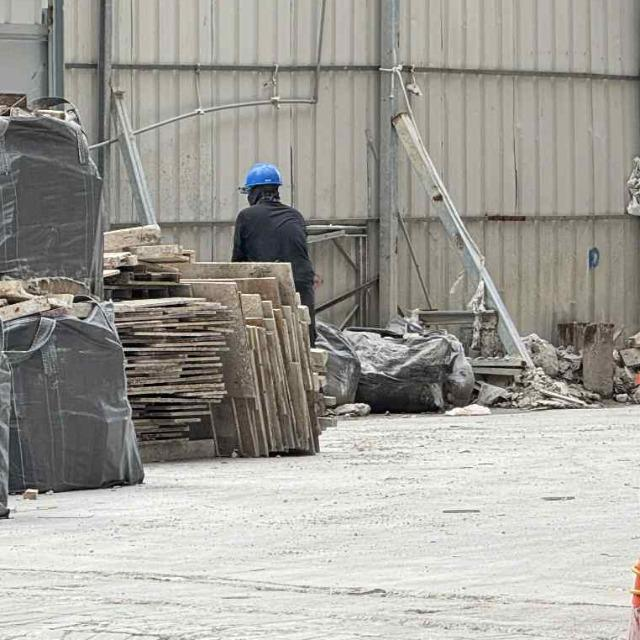Helmet: (236, 159, 286, 205)
